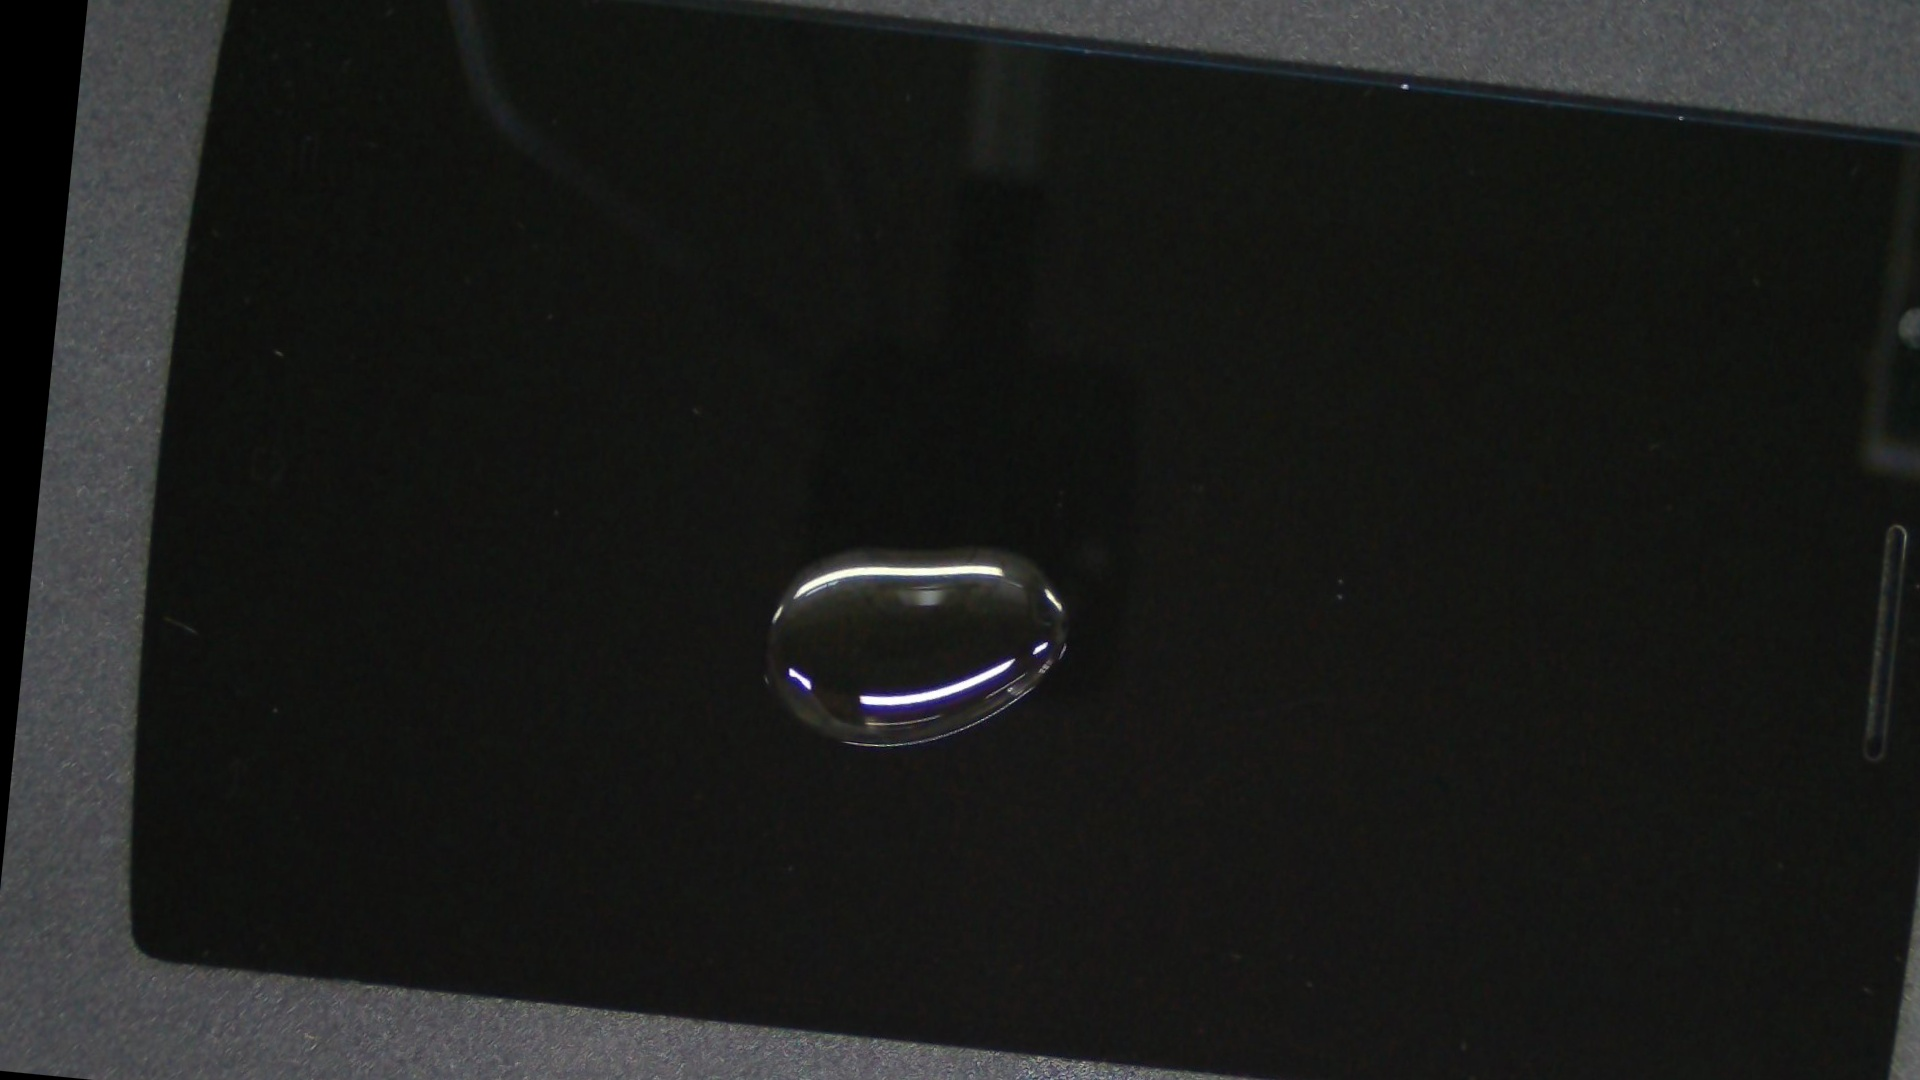oil: (480, 179, 1477, 909)
